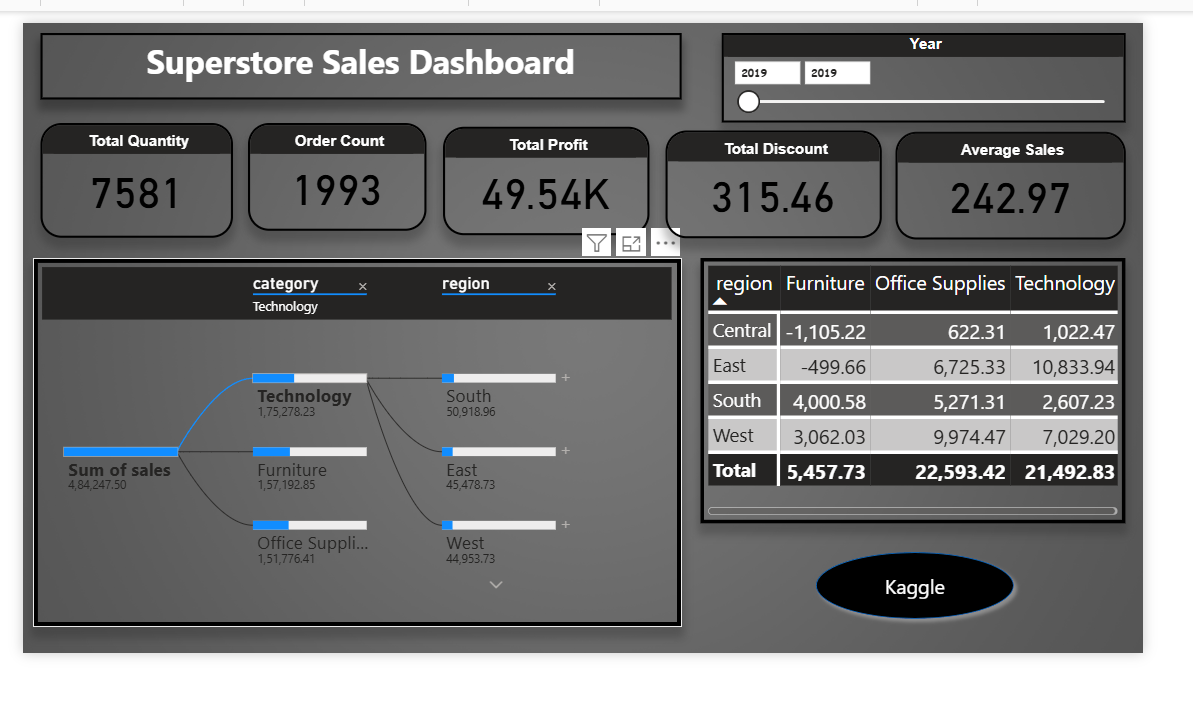

This screenshot's page, from the dashboard's own definition file:
{"tool":"powerbi","page":{"name":"Sales Dashboard card","canvas":[1280,720],"ordinal":1},"visuals":[{"type":"textbox","box":[20,11.4,732.9,75.7],"z":0},{"type":"card","title":"Average Sales","fields":{"Values":["Avg(superstore_dataset.sales)"]},"box":[627.1,121.4,207.1,122.9],"z":1000},{"type":"card","title":"Total Profit","fields":{"Values":["Sum(superstore_dataset.profit)"]},"box":[401.4,121.4,215.7,124.3],"z":2000},{"type":"card","title":"Total Quantity","fields":{"Values":["Sum(superstore_dataset.quantity)"]},"box":[15.7,114.3,175.7,131.4],"z":3000},{"type":"slicer","title":"Year","fields":{"Values":["superstore_dataset.order_date.Variation.Date Hierarchy.Year"]},"box":[798.8,11.2,461.2,102.5],"z":4000},{"type":"card","title":"Order Count","fields":{"Values":["CountNonNull(superstore_dataset.order_id)"]},"box":[208.6,120,181.4,122.9],"z":5000},{"type":"decompositionTreeVisual","fields":{"ExplainBy":["superstore_dataset.category","superstore_dataset.region","superstore_dataset.city","superstore_dataset.subcategory"],"Analyze":["Sum(superstore_dataset.sales)"]},"box":[11.4,268.6,608.6,447.1],"z":6000},{"type":"multiRowCard","title":"Sum of Quantity, Cost, Sales And Profit ","fields":{"Values":["superstore_dataset.category","Sum(superstore_dataset.quantity)","Sum(superstore_dataset.Cost)","Sum(superstore_dataset.profit)","Sum(superstore_dataset.sales)"]},"box":[632.9,341.4,631.4,368.6],"z":7000},{"type":"pivotTable","fields":{"Columns":["superstore_dataset.category"],"Rows":["superstore_dataset.region"],"Values":["Sum(superstore_dataset.profit)"]},"box":[844.3,125.7,415.7,208.6],"z":8000}]}

Visuals, with their boxes on the page's 1280x720 design canvas (x1, y1, x2, y2). These are canvas units, not pixel positions in the 1193x717 screenshot, which may show the page scaled, cropped or inside an application window:
textbox: box(20, 11, 753, 87)
"Average Sales" card: box(627, 121, 834, 244)
"Total Profit" card: box(401, 121, 617, 246)
"Total Quantity" card: box(16, 114, 191, 246)
"Year" slicer: box(799, 11, 1260, 114)
"Order Count" card: box(209, 120, 390, 243)
decompositionTreeVisual - superstore_dataset.category x superstore_dataset.region: box(11, 269, 620, 716)
"Sum of Quantity, Cost, Sales And Profit " multiRowCard: box(633, 341, 1264, 710)
pivotTable - superstore_dataset.category x superstore_dataset.region: box(844, 126, 1260, 334)
